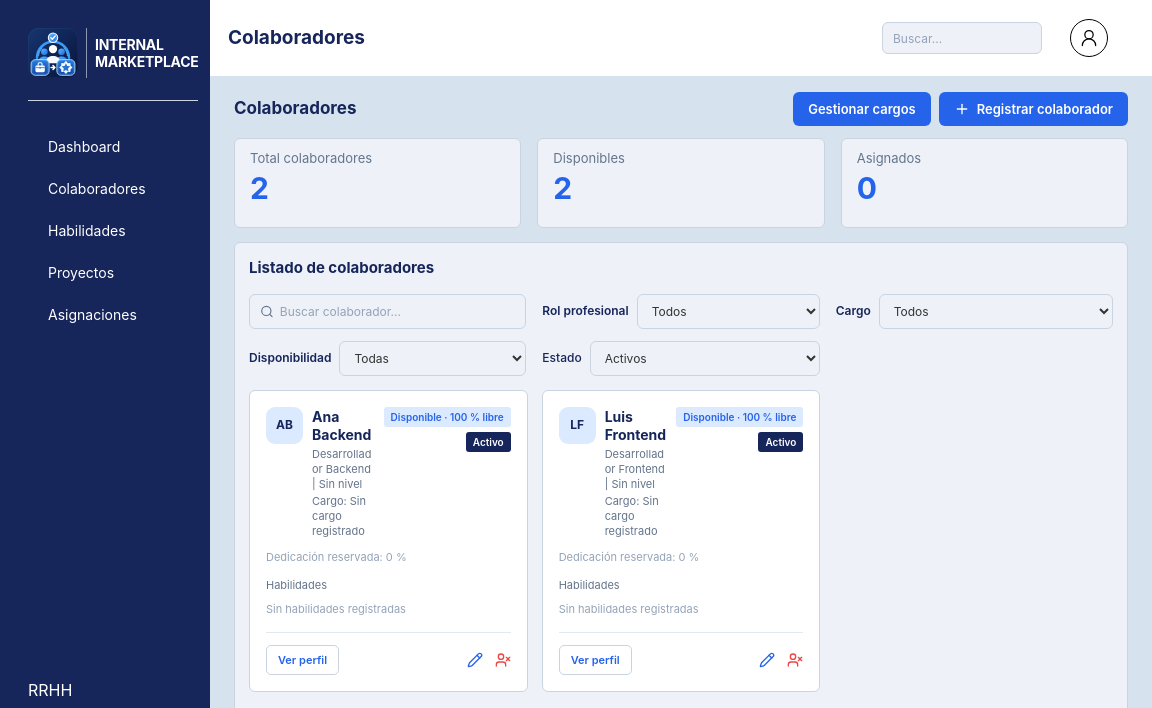
RRHH: colaboradores activos y reincorporaciones › filtra la plantilla por el rol profesional real, sin confundirlo con niveles de habilidad
This screenshot has width=1152, height=708.
expect the heading "Ana Backend" is shown: met, box x1=312 y1=408 x2=375 y2=444
expect the heading "Luis Frontend" is shown: met, box x1=605 y1=408 x2=667 y2=444
Select "Desarrollador Backend" in the dropdown named "Filtrar por rol profesional" at point(728, 311), box x1=637 y1=294 x2=820 y2=328
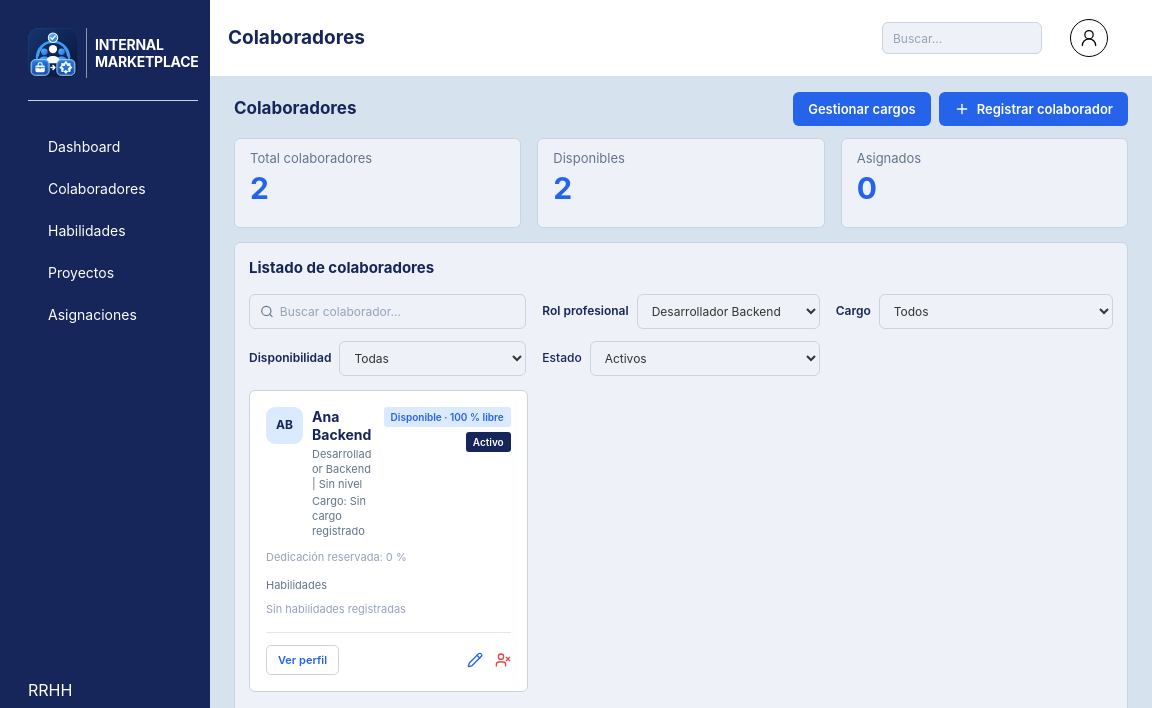
expect the heading "Ana Backend" is shown: met, box x1=312 y1=408 x2=375 y2=444
expect the heading "Luis Frontend" is gone: met
